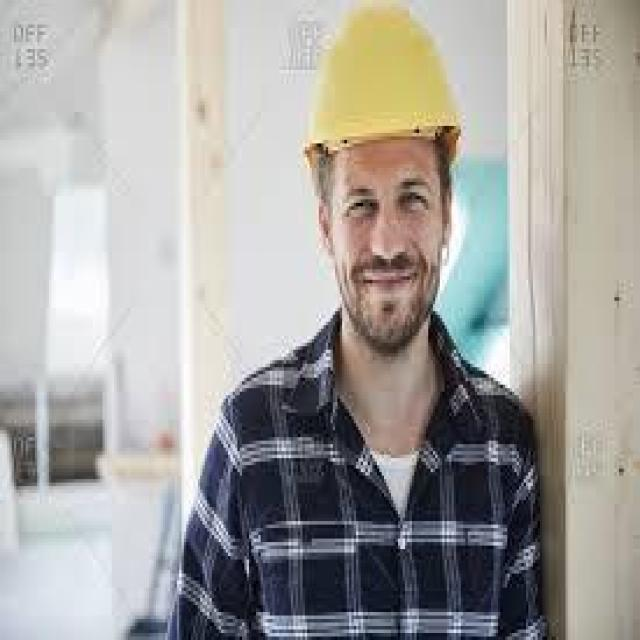helmet: (302, 0, 465, 164)
